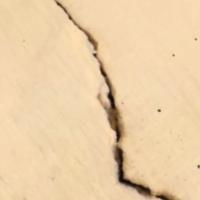crack: (58, 3, 182, 199)
